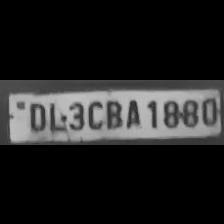0: (198, 95, 218, 125)
1: (142, 96, 160, 128)
3: (65, 97, 85, 130)
8: (160, 96, 180, 128), (179, 96, 199, 127)
A: (123, 96, 143, 128)
B: (103, 96, 123, 128)
C: (84, 96, 104, 130)
D: (25, 100, 47, 132)
L: (47, 98, 65, 132)
